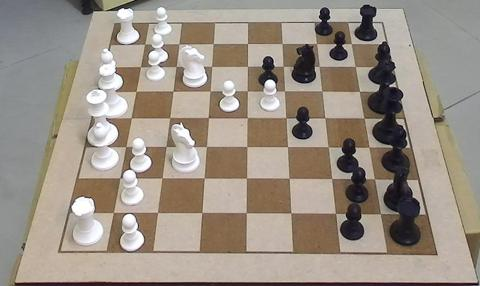xcorner: (346, 39, 356, 49), (277, 39, 287, 49), (242, 39, 252, 49), (173, 39, 183, 49), (139, 39, 149, 49), (314, 62, 324, 72), (278, 62, 288, 72), (242, 86, 252, 96), (167, 86, 177, 96), (130, 86, 140, 96), (320, 113, 330, 123), (281, 113, 291, 123), (242, 113, 252, 123), (203, 113, 213, 123), (164, 113, 174, 123), (283, 142, 293, 152), (242, 142, 252, 152), (201, 142, 211, 152), (327, 174, 337, 184), (242, 174, 252, 184), (157, 173, 167, 183), (114, 173, 124, 183), (242, 209, 252, 219), (108, 208, 118, 218), (312, 39, 321, 49), (208, 39, 217, 49), (351, 62, 360, 72), (242, 62, 252, 71), (206, 62, 216, 71), (170, 62, 180, 71), (355, 87, 365, 96), (317, 87, 327, 96), (280, 86, 289, 96), (205, 86, 214, 96), (360, 113, 369, 123), (125, 113, 135, 122), (365, 143, 375, 152), (120, 142, 130, 151), (370, 175, 380, 184), (285, 174, 294, 184), (199, 174, 209, 183), (332, 209, 341, 219), (287, 209, 296, 219), (197, 209, 207, 218), (153, 208, 162, 218), (135, 62, 144, 71), (324, 143, 333, 152), (161, 142, 170, 151), (377, 210, 386, 219)
